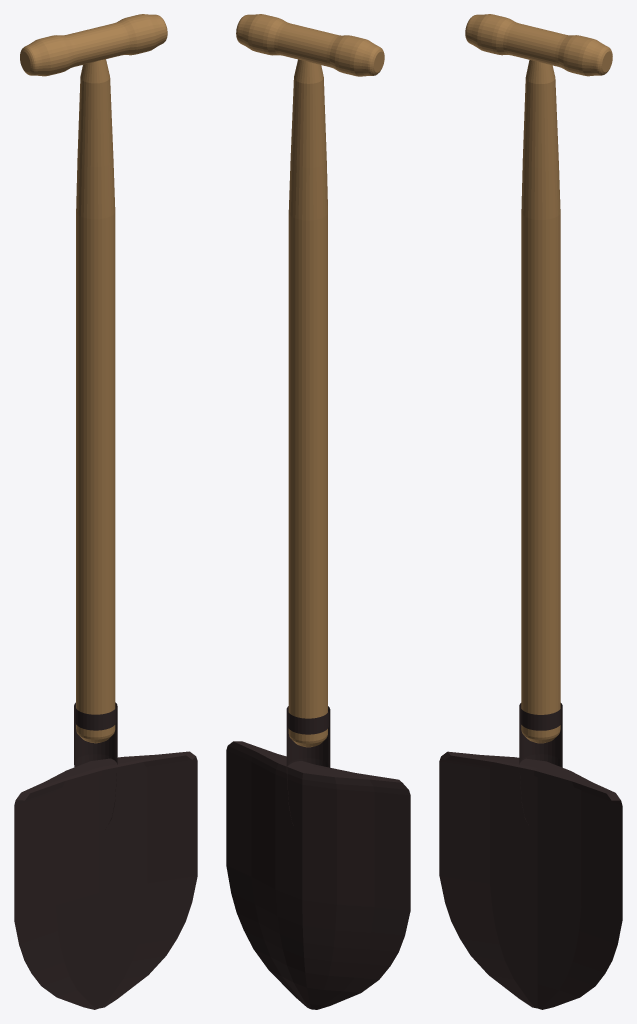
File: shovel.fbx
The picture shows the model from 3 angles, left to right: view 1: azimuth 30°, elevation 25°; view 2: azimuth 150°, elevation 25°; view 3: azimuth 330°, elevation 25°; orthographic projection.
Visible parts, largest first — view 1: spaten_Fläche, griff_Kreis.001; view 2: spaten_Fläche, griff_Kreis.001; view 3: spaten_Fläche, griff_Kreis.001.
Boxes of the visible parts, x1,y1,x2,y2 form: spaten_Fläche: [14, 702, 197, 1009]; griff_Kreis.001: [20, 14, 167, 743]; spaten_Fläche: [226, 706, 410, 1009]; griff_Kreis.001: [236, 14, 384, 747]; spaten_Fläche: [439, 703, 622, 1009]; griff_Kreis.001: [465, 14, 612, 743].
Size of the model in its own units: 2.83 by 14.42 by 0.6313.
